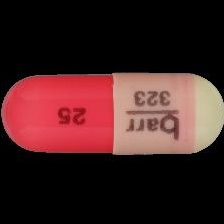51079-077: (0, 0, 224, 224)
